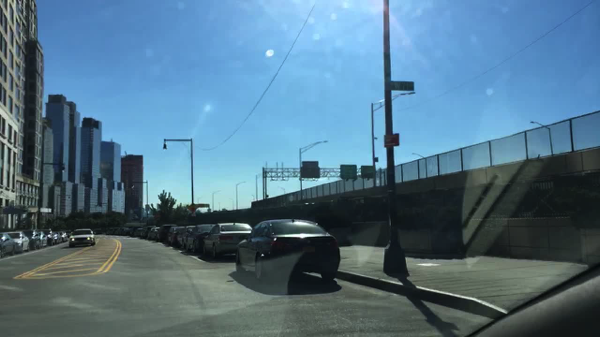car: (234, 220, 340, 285), (201, 222, 253, 261), (188, 224, 216, 253), (5, 231, 32, 254), (68, 228, 96, 249), (18, 228, 43, 251), (0, 231, 18, 259), (180, 225, 198, 251), (156, 223, 177, 243), (166, 225, 185, 247), (42, 228, 55, 246), (142, 225, 157, 239), (147, 226, 160, 242), (36, 231, 49, 247), (121, 225, 135, 237), (51, 232, 62, 247), (132, 226, 144, 237), (57, 230, 68, 242), (104, 227, 115, 237), (112, 227, 122, 237), (92, 227, 103, 235), (65, 228, 74, 237)
traffic sign: (300, 166, 322, 181), (388, 81, 414, 93), (339, 164, 358, 180), (301, 167, 322, 180), (383, 133, 399, 148), (360, 165, 376, 179), (187, 203, 197, 214), (194, 203, 209, 208), (145, 205, 151, 213)
